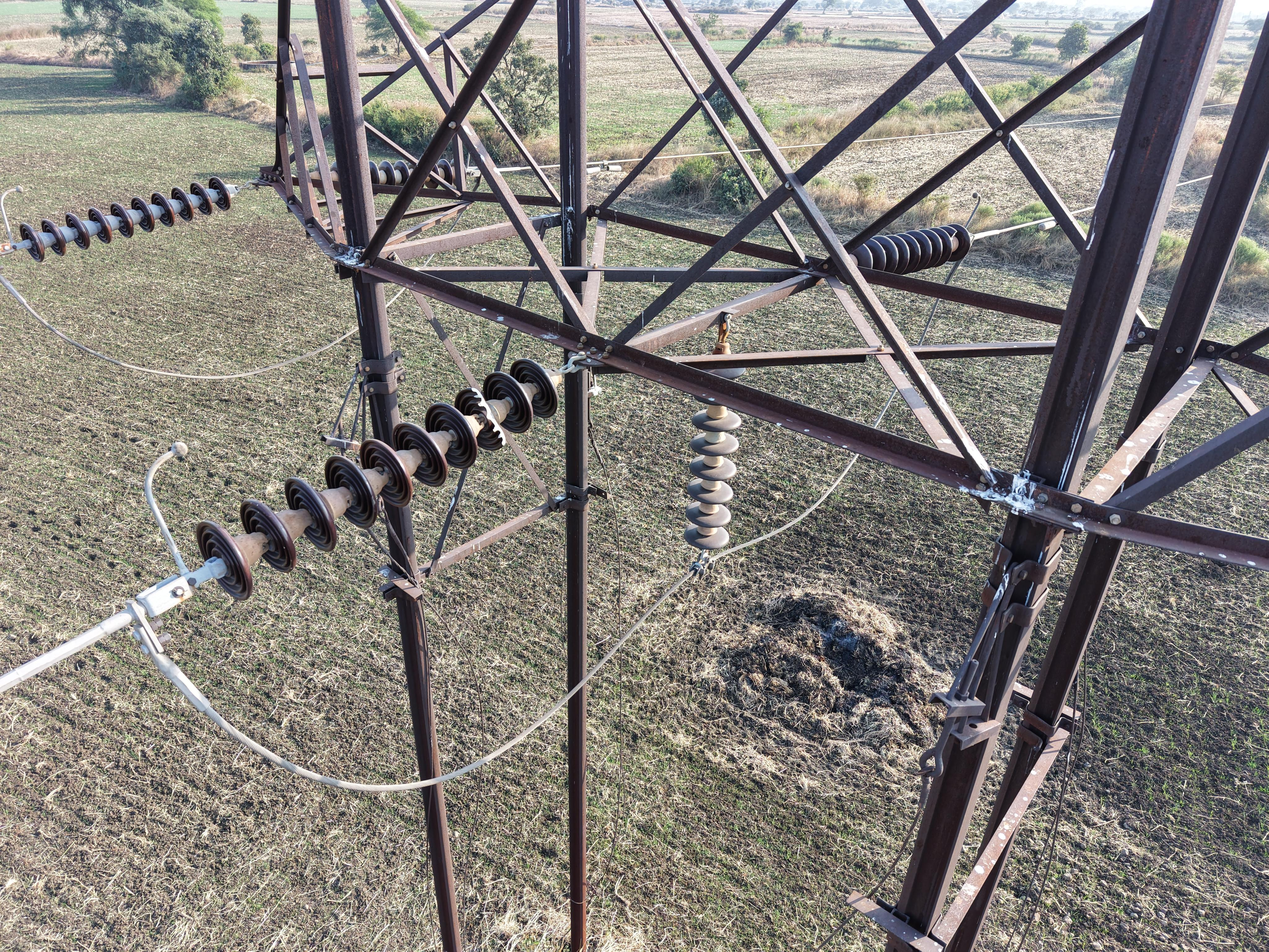broken_insulator: (940, 223, 962, 249)
